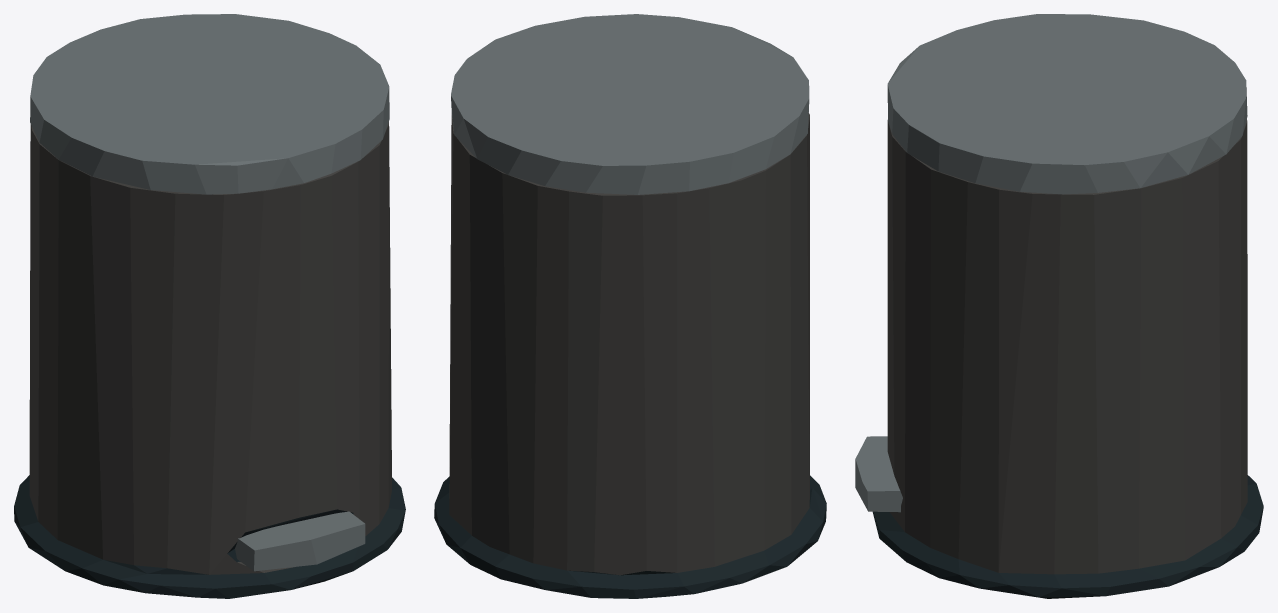
Rendered from TrashCan.fbx.
3 views of the same model, side by side, from view 1: azimuth 30°, elevation 25°; view 2: azimuth 150°, elevation 25°; view 3: azimuth 270°, elevation 25° (orthographic).
Visible parts, largest first — view 1: TrashCanLowPoly, TrashCanLidLowPoly; view 2: TrashCanLowPoly, TrashCanLidLowPoly; view 3: TrashCanLowPoly, TrashCanLidLowPoly.
Boxes of the visible parts, x1,y1,x2,y2 form: TrashCanLowPoly: (14,122,405,598); TrashCanLidLowPoly: (30,14,389,194); TrashCanLowPoly: (434,113,826,598); TrashCanLidLowPoly: (451,14,809,194); TrashCanLowPoly: (855,119,1263,598); TrashCanLidLowPoly: (887,14,1247,194).
Bounding box in the file's own units: 20.73 × 25.02 × 21.6.
